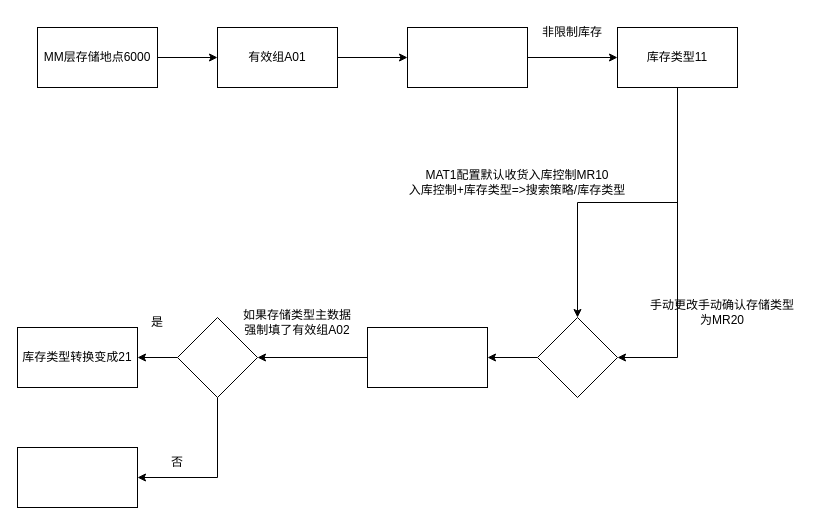
This 815x525 diagram has some shape labels left out. Here are the shapes that lost their labels. From the top down, the box of each, then its label:
(406, 26, 528, 88): 库存类型11，12等等
(366, 326, 488, 388): 对应的搜索策略 MR10/MR20
